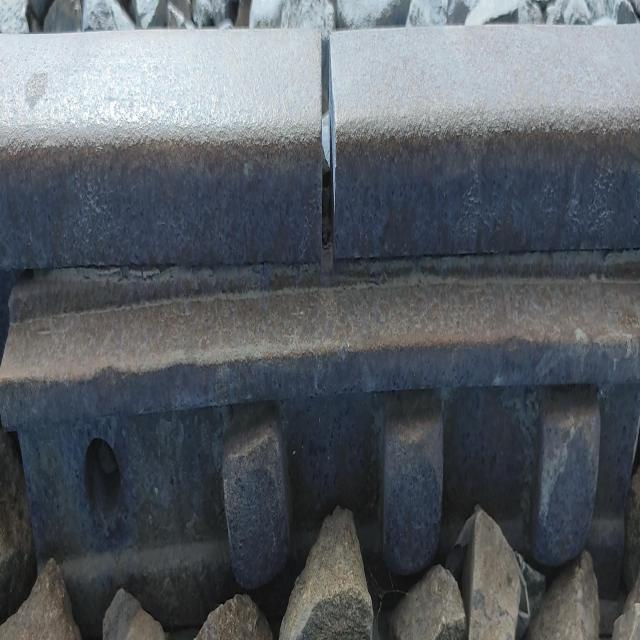Defective Joint: (0, 257, 640, 638)
